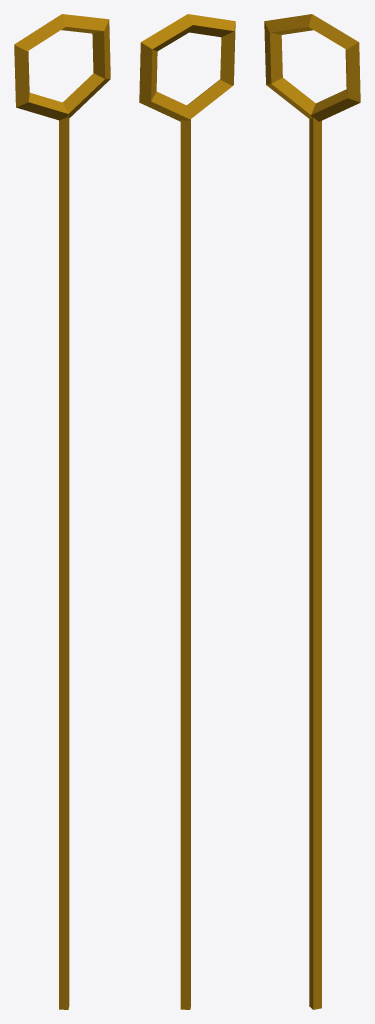
The model's file is Prop_Gothic_Hanging_Rope_02.FBX.
The picture shows the model from 3 angles, left to right: view 1: azimuth 30°, elevation 25°; view 2: azimuth 210°, elevation 25°; view 3: azimuth 330°, elevation 25°; orthographic projection.
Visible parts, largest first — view 1: Prop_Gothic_Hanging_Rope_02; view 2: Prop_Gothic_Hanging_Rope_02; view 3: Prop_Gothic_Hanging_Rope_02.
Boxes of the visible parts, x1=… form: Prop_Gothic_Hanging_Rope_02: x1=14, y1=14, x2=110, y2=1009; Prop_Gothic_Hanging_Rope_02: x1=139, y1=14, x2=235, y2=1009; Prop_Gothic_Hanging_Rope_02: x1=264, y1=14, x2=360, y2=1009.
Bounding box in the file's own units: 91.09 × 896 × 14.69.
